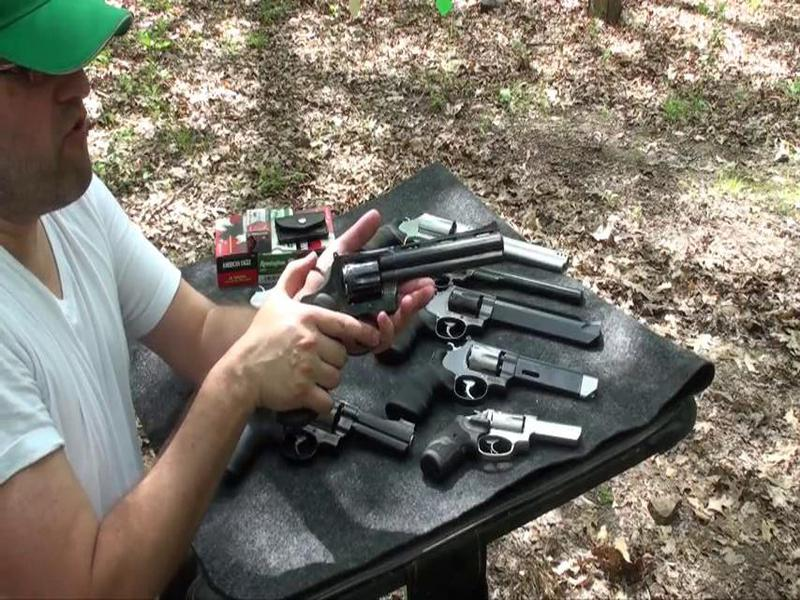Revolver: (277, 222, 516, 331)
